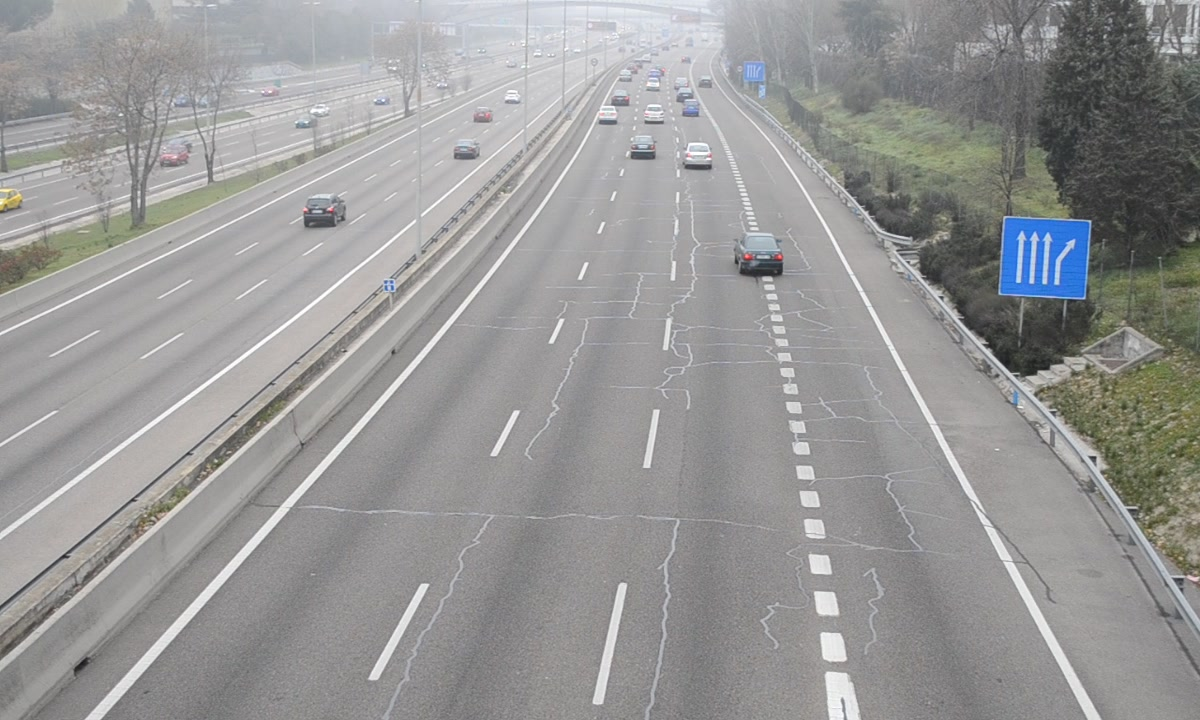car: (735, 231, 785, 274), (681, 141, 714, 172), (629, 133, 656, 160)
